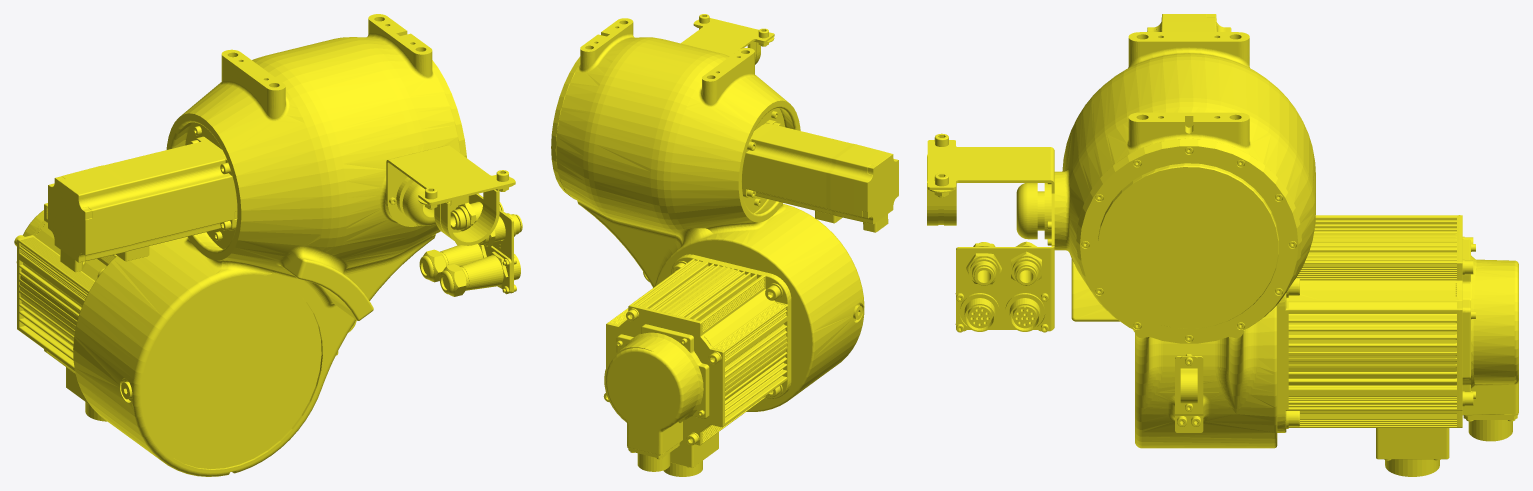
The picture shows the model from 3 angles, left to right: view 1: azimuth 30°, elevation 25°; view 2: azimuth 150°, elevation 25°; view 3: azimuth 270°, elevation 25°; orthographic projection. The views are drawn at different scales.
Parts seen in each view (by area): view 1: Link3; view 2: Link3; view 3: Link3.
Part boxes in pixels (bbox=[...]): Link3: bbox=[14, 14, 522, 476]; Link3: bbox=[551, 14, 898, 476]; Link3: bbox=[927, 14, 1518, 476].
Bounding box in the file's own units: 0.3316 × 0.42 × 0.3546.
